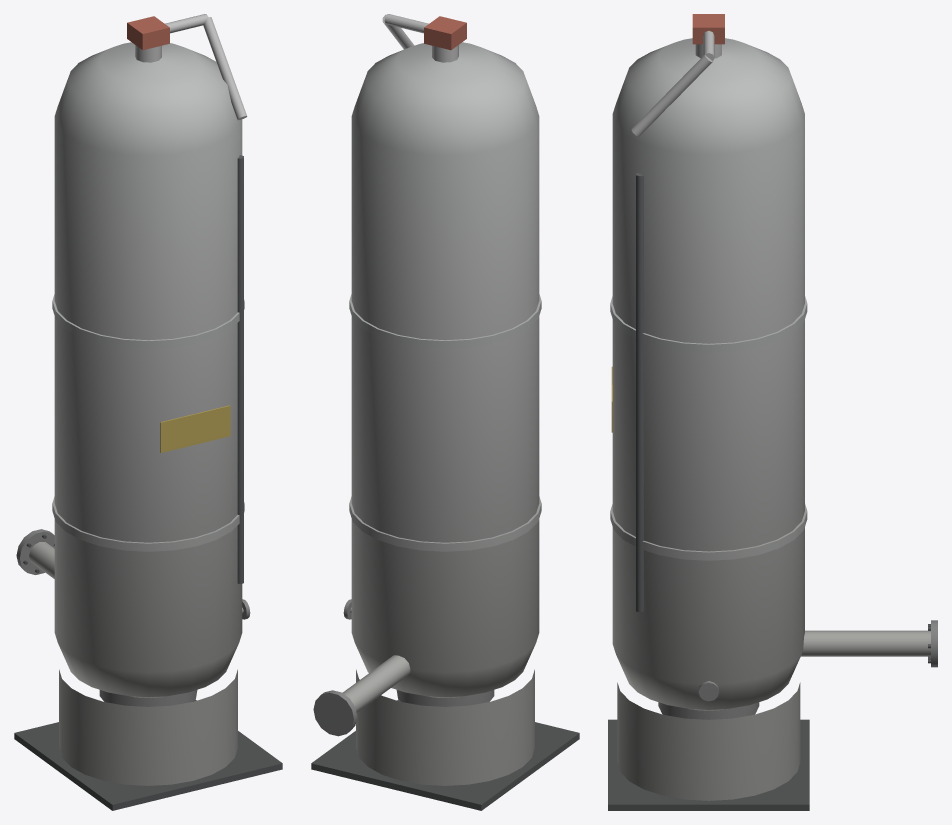
Rendered from pressuriser_steel.glb.
The picture shows the model from 3 angles, left to right: view 1: azimuth 30°, elevation 25°; view 2: azimuth 150°, elevation 25°; view 3: azimuth 270°, elevation 25°; orthographic projection. The views are drawn at different scales.
Visible parts, largest first — view 1: pressuriser_steel; view 2: pressuriser_steel; view 3: pressuriser_steel.
Boxes of the visible parts, x1=… form: pressuriser_steel: x1=14, y1=14, x2=282, y2=810; pressuriser_steel: x1=311, y1=14, x2=579, y2=810; pressuriser_steel: x1=608, y1=14, x2=937, y2=810.
Size of the model in its own units: 0.94 by 3.6 by 1.44.
